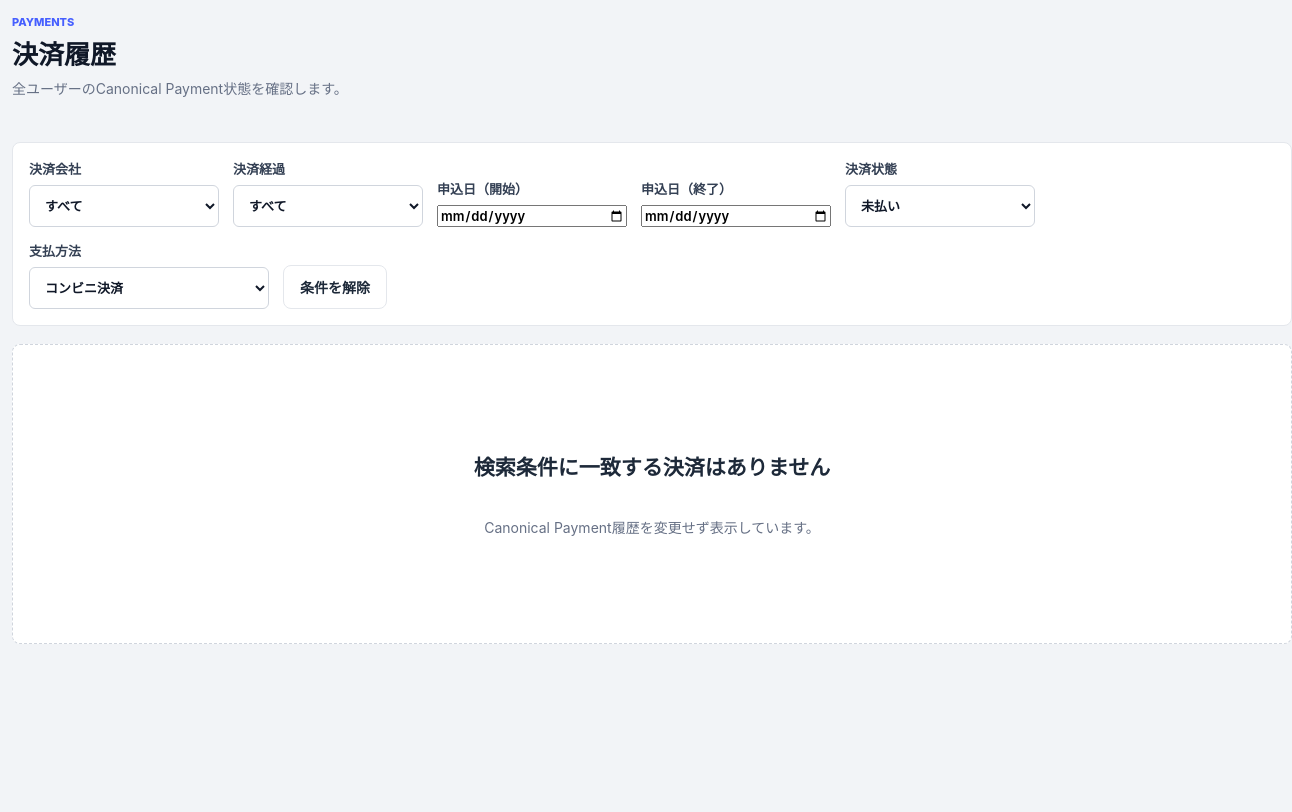
Test case: Admin Payment History › uses explicit filters, resets to succeeded and all methods, and reports empty data
Expected: the heading "検索条件に一致する決済はありません" is shown, [474,451,830,481]
Select "決済成功" in the dropdown labelled "決済状態" at {"x": 940, "y": 206}, box [845,185,1035,227]
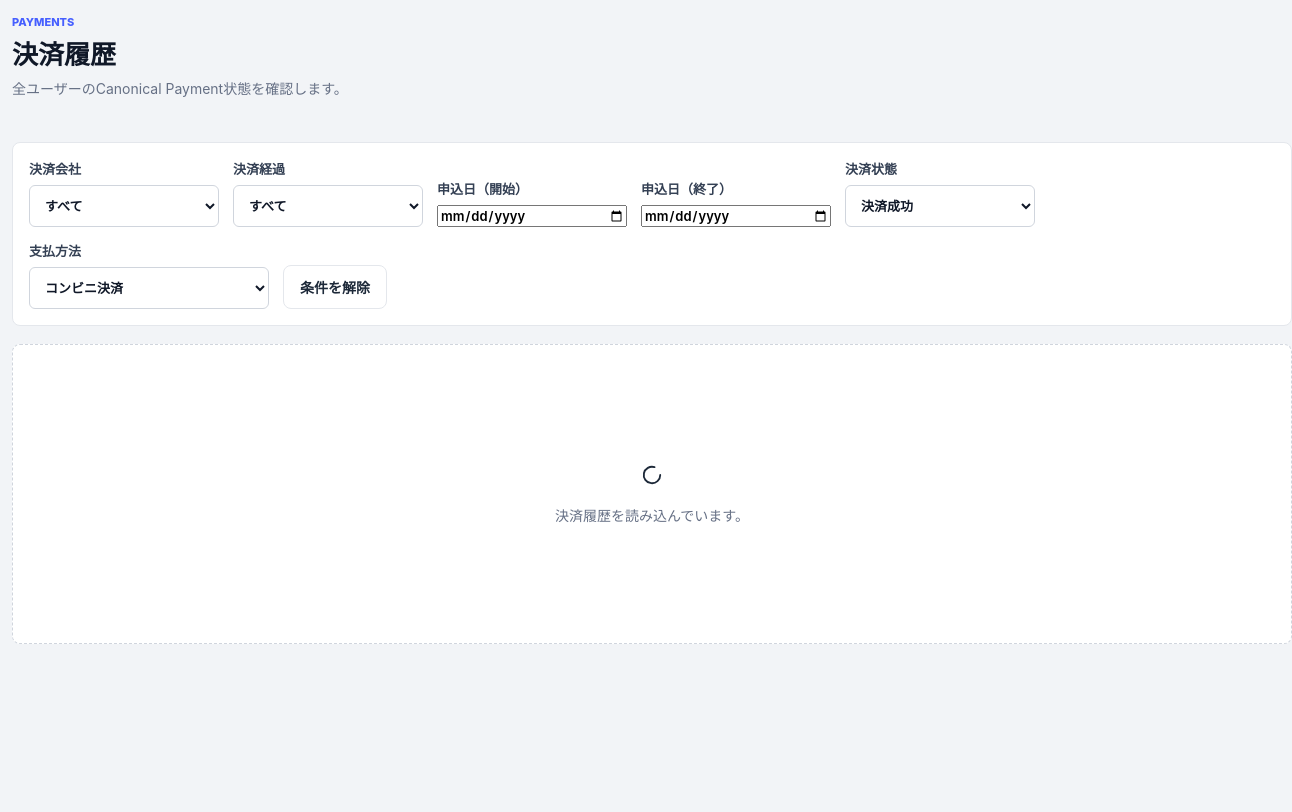
Select "クレジットカード" in the dropdown labelled "支払方法" at {"x": 149, "y": 288}, box [29,267,269,309]
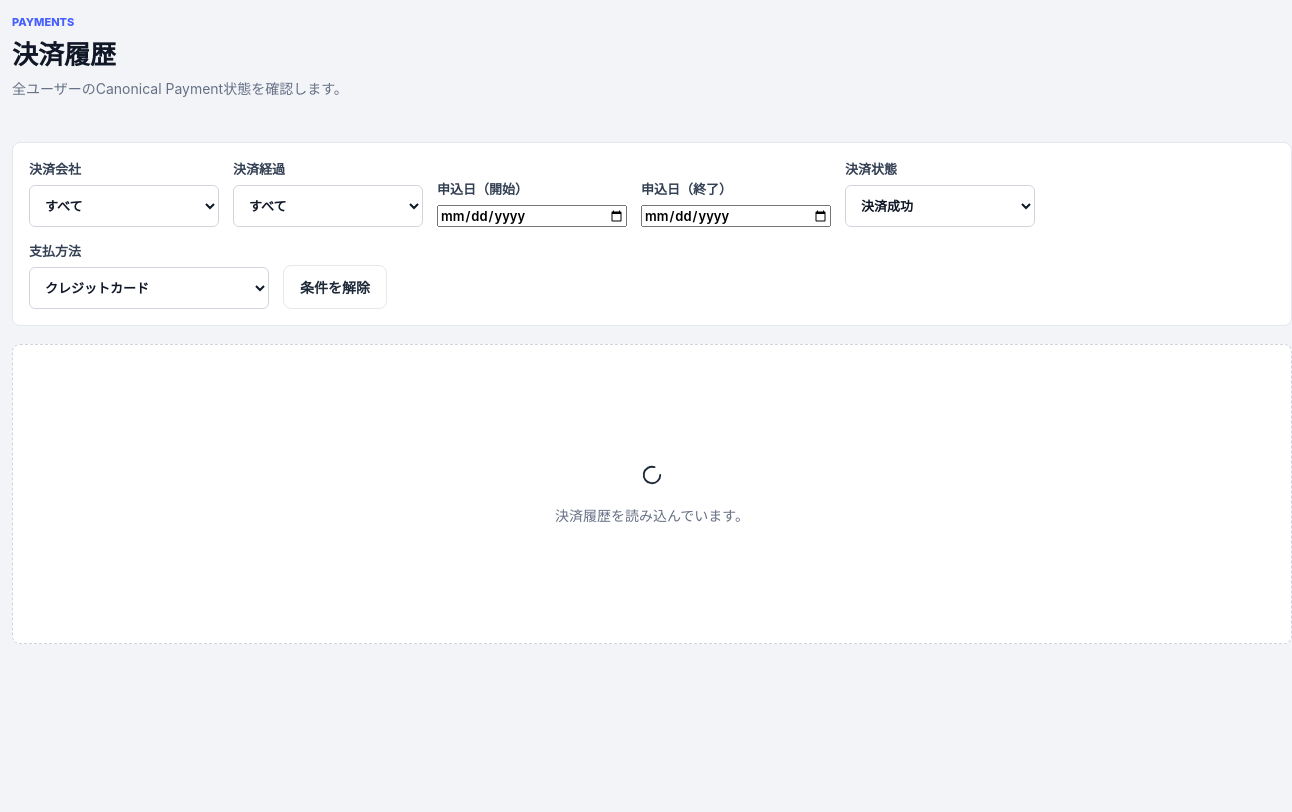
Click the button "条件を解除" at {"x": 335, "y": 287}, box [283,265,387,309]
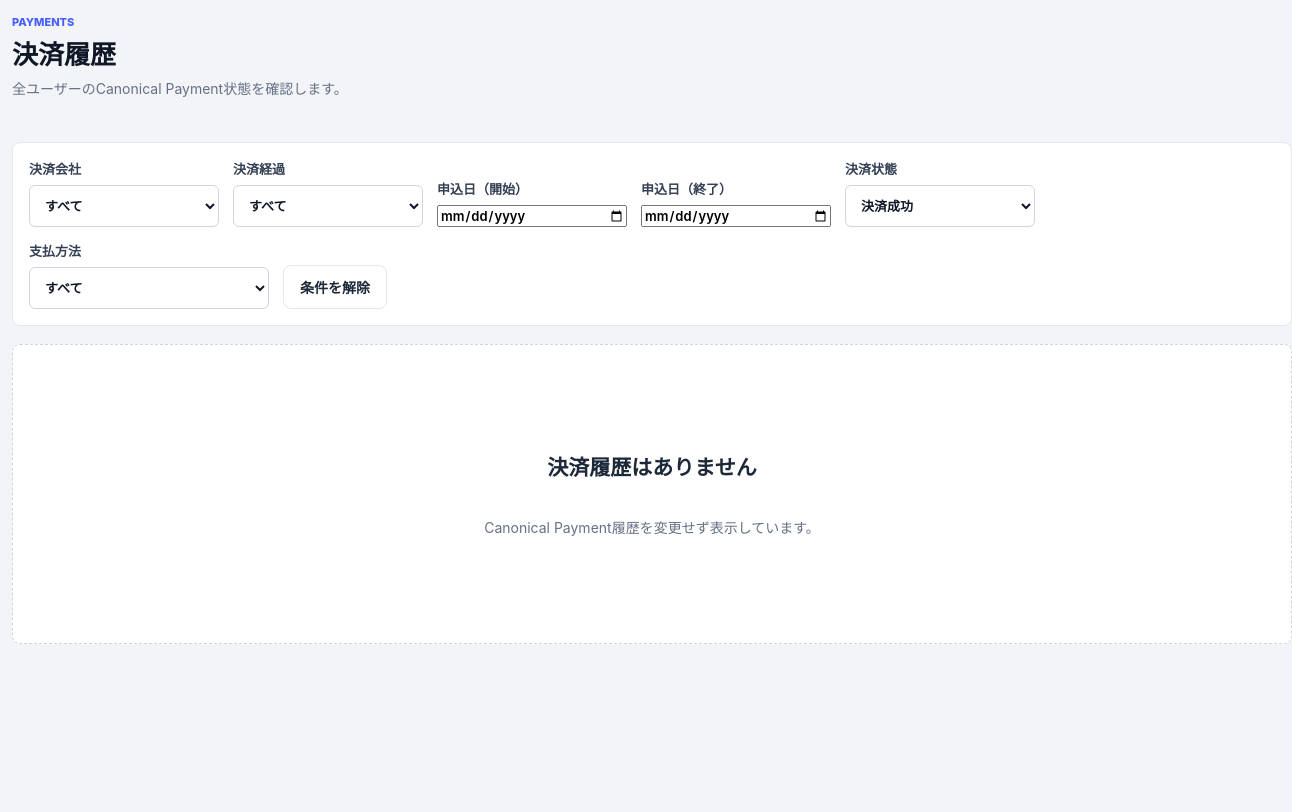
Expected: the heading "決済履歴はありません" is shown, [547,451,757,481]
